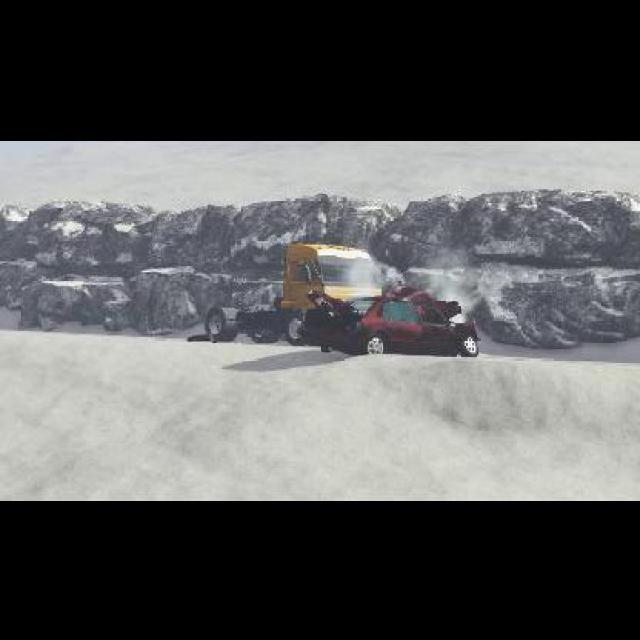accident: (202, 233, 484, 358)
